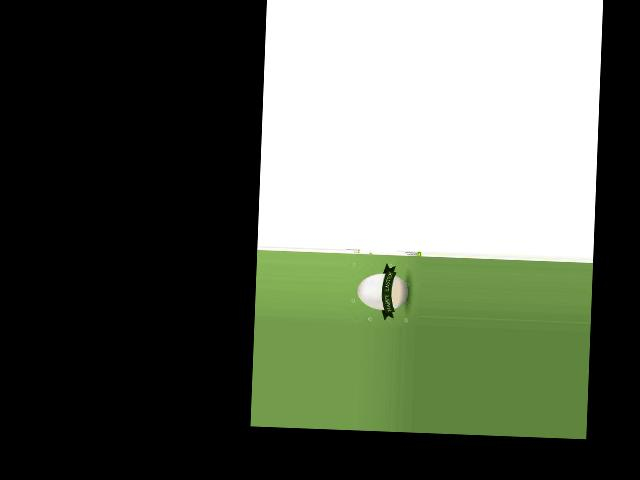egg: (356, 272, 408, 310)
